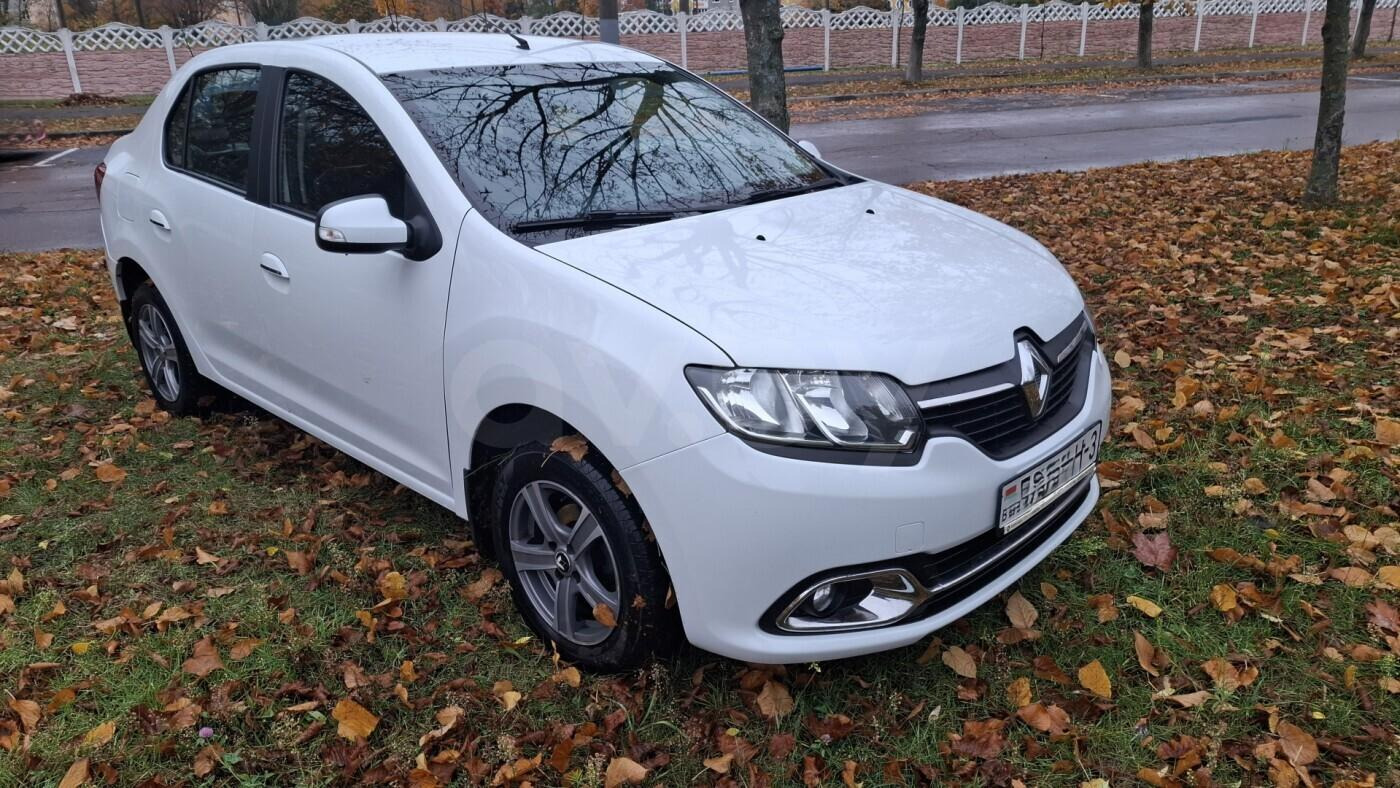Logan_2013-2018: (86, 31, 1118, 676)
